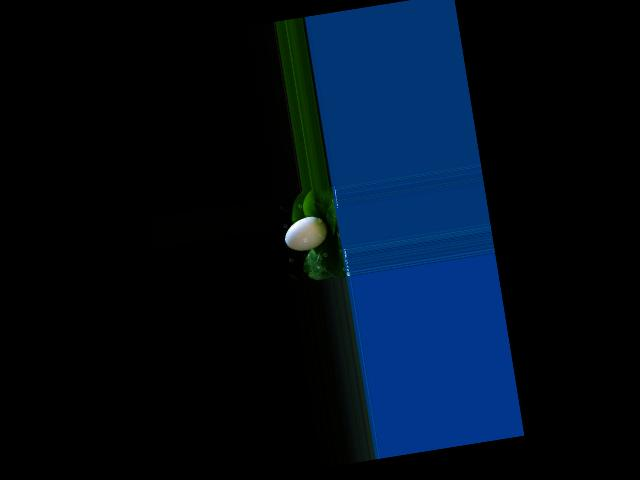egg: (282, 213, 330, 253)
